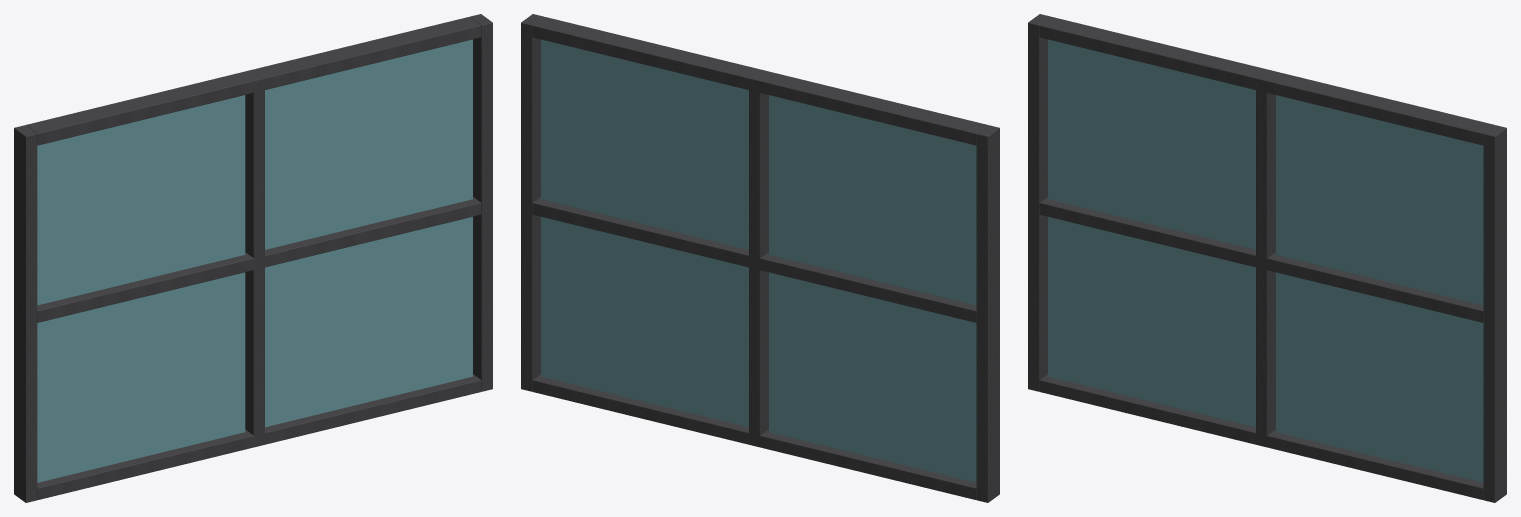
The model's file is industrial_window.glb.
3 views of the same model, side by side, from view 1: azimuth 30°, elevation 25°; view 2: azimuth 150°, elevation 25°; view 3: azimuth 330°, elevation 25° (orthographic).
Visible parts, largest first — view 1: glass, glass.001, glass.002, glass.003, horizontal_frame.002, vertical_frame, horizontal_frame.001, horizontal_frame, vertical_frame.002, vertical_frame.001; view 2: glass, glass.001, glass.002, glass.003, horizontal_frame.002, vertical_frame, horizontal_frame.001, horizontal_frame, vertical_frame.002, vertical_frame.001; view 3: glass.002, glass.003, glass, glass.001, horizontal_frame.002, vertical_frame.002, horizontal_frame.001, horizontal_frame, vertical_frame, vertical_frame.001.
Part boxes in pixels (x1,y1,x2,y2): glass: [37, 272, 245, 482]; glass.001: [37, 95, 245, 305]; glass.002: [265, 216, 472, 427]; glass.003: [265, 39, 472, 249]; horizontal_frame.002: [26, 17, 481, 145]; vertical_frame: [14, 125, 37, 502]; horizontal_frame.001: [37, 197, 481, 322]; horizontal_frame: [37, 374, 481, 499]; vertical_frame.002: [470, 14, 492, 391]; vertical_frame.001: [245, 79, 264, 446]; glass: [768, 272, 976, 482]; glass.001: [768, 95, 976, 305]; glass.002: [541, 216, 748, 427]; glass.003: [541, 39, 748, 249]; horizontal_frame.002: [532, 17, 987, 145]; vertical_frame: [976, 125, 999, 502]; horizontal_frame.001: [532, 197, 976, 322]; horizontal_frame: [532, 374, 976, 499]; vertical_frame.002: [521, 14, 543, 391]; vertical_frame.001: [749, 80, 768, 439]; glass.002: [1275, 272, 1483, 482]; glass.003: [1275, 95, 1483, 305]; glass: [1048, 216, 1255, 427]; glass.001: [1048, 39, 1255, 249]; horizontal_frame.002: [1039, 17, 1494, 145]; vertical_frame.002: [1483, 125, 1506, 502]; horizontal_frame.001: [1039, 197, 1483, 322]; horizontal_frame: [1039, 374, 1483, 499]; vertical_frame: [1028, 14, 1050, 391]; vertical_frame.001: [1256, 80, 1275, 439].
Bounding box in the file's own units: 4 × 3 × 0.18.
Materials: 2 (1 with a texture image).
